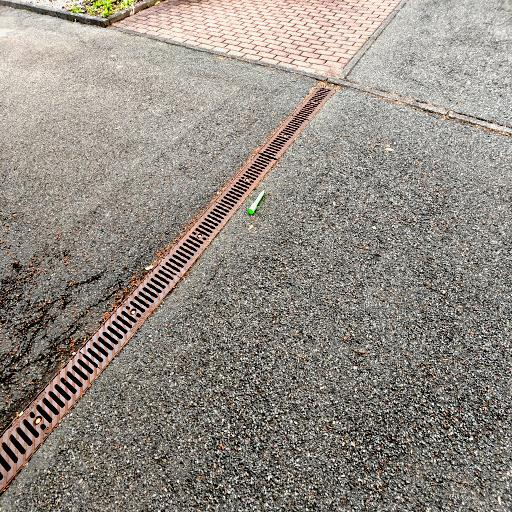Probe-Detection: (248, 190, 264, 215)
